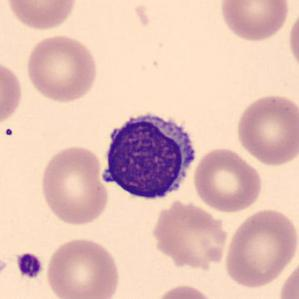Lymphocyte: (95, 105, 202, 206)
Platelets: (14, 251, 44, 280)
RBC: (221, 206, 297, 290), (37, 142, 111, 227), (146, 198, 232, 271), (23, 32, 101, 104), (43, 235, 122, 299), (191, 145, 264, 214), (233, 92, 298, 167), (216, 0, 291, 43), (4, 0, 79, 32), (0, 56, 24, 129), (149, 282, 219, 299), (276, 255, 299, 299), (285, 4, 299, 74)
